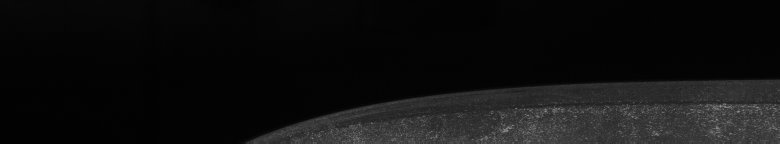kb: (156, 0, 776, 144)
